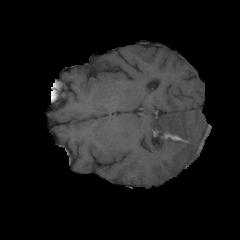glioma: (136, 108, 209, 165)
